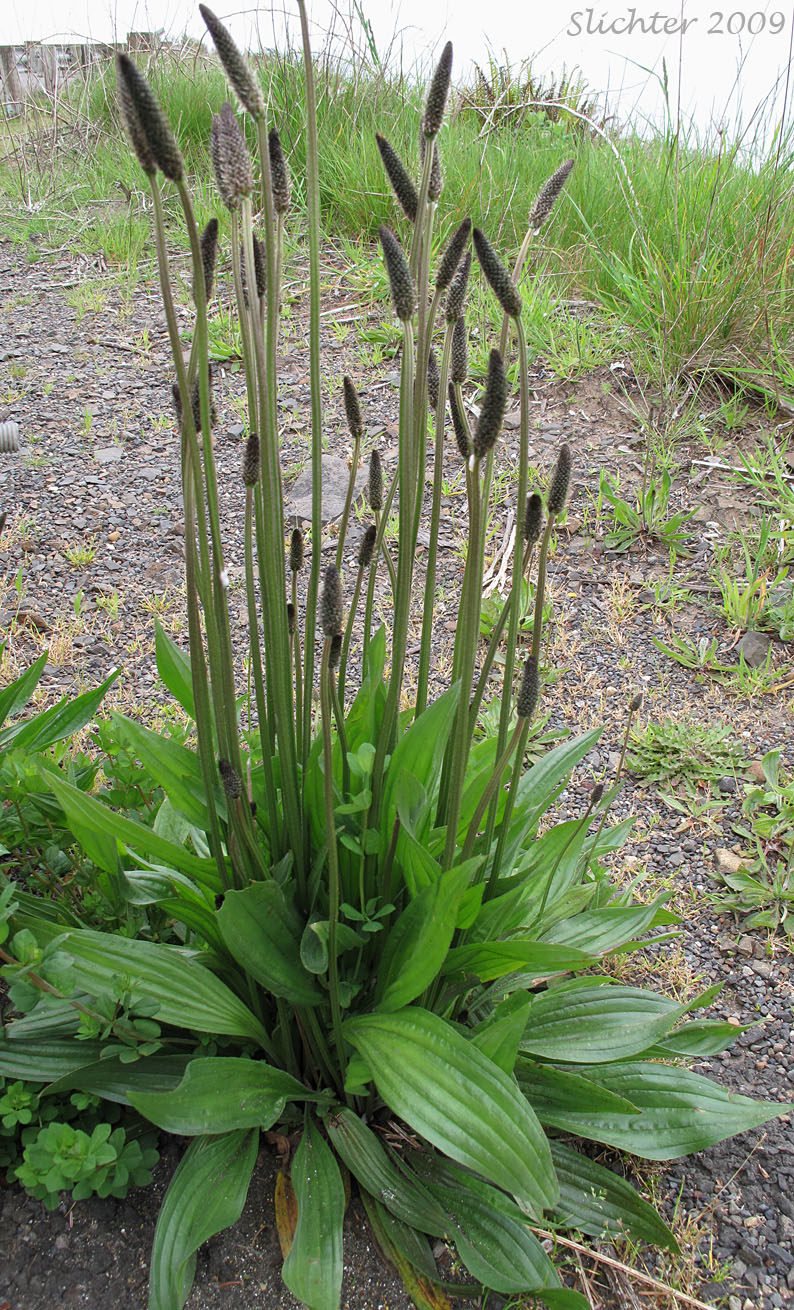buckhorn plantain: (41, 4, 757, 1265)
